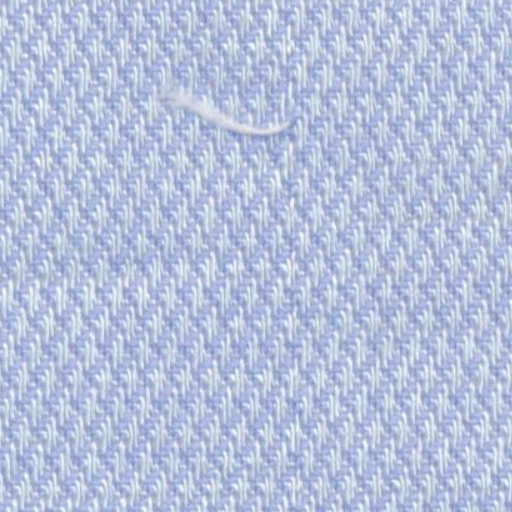DuanSha: (164, 80, 312, 148)
